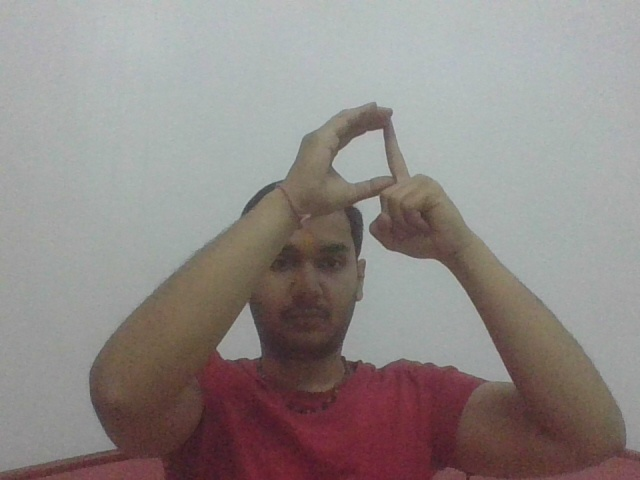D: (294, 99, 466, 255)
